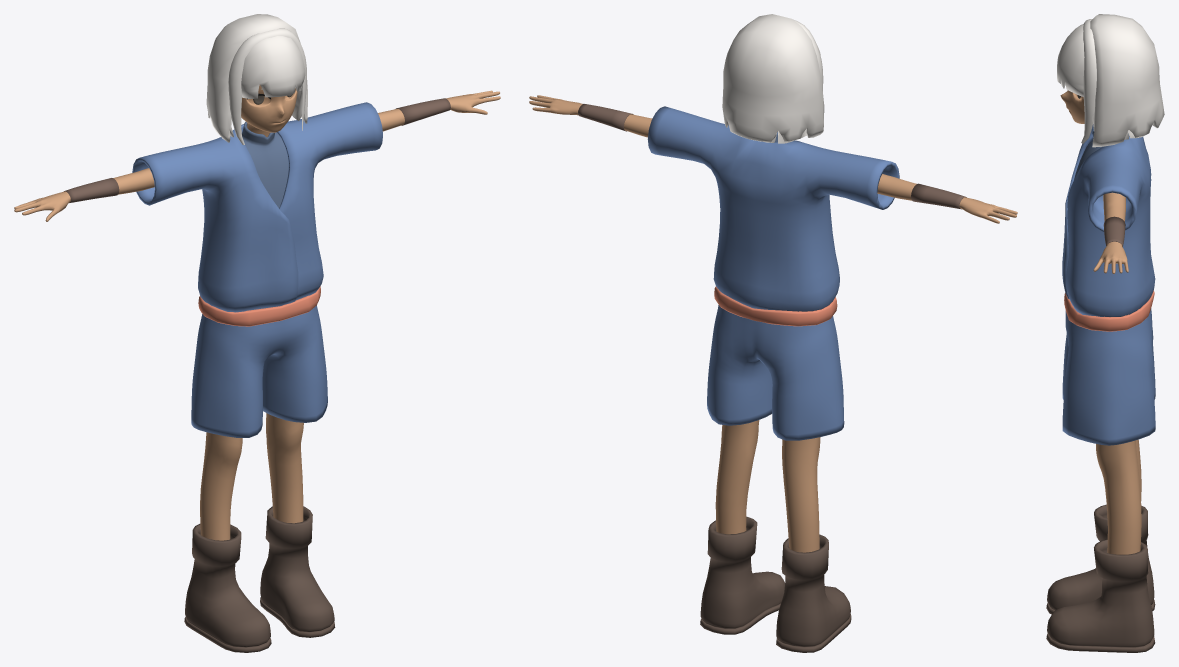
3 views of the same model, side by side, from view 1: azimuth 30°, elevation 25°; view 2: azimuth 150°, elevation 25°; view 3: azimuth 270°, elevation 25° (orthographic).
Visible parts, largest first — view 1: belt.004; view 2: belt.004; view 3: belt.004.
Boxes of the visible parts, x1,y1,x2,y2 form: belt.004: (14, 14, 500, 652); belt.004: (529, 14, 1017, 652); belt.004: (1046, 14, 1164, 652).
Size of the model in its own units: 133 by 158 by 28.05.
